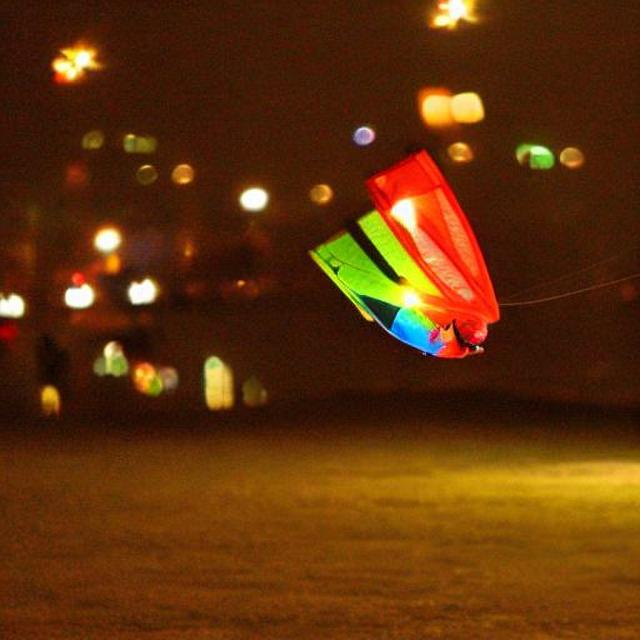floating object: (314, 150, 497, 354)
